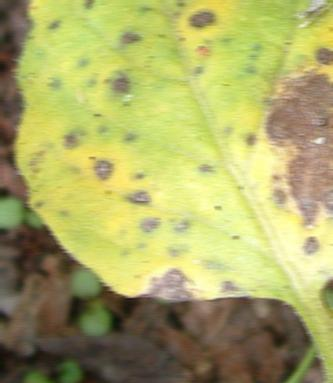Tomato Early blight leaf: (15, 0, 333, 326)
